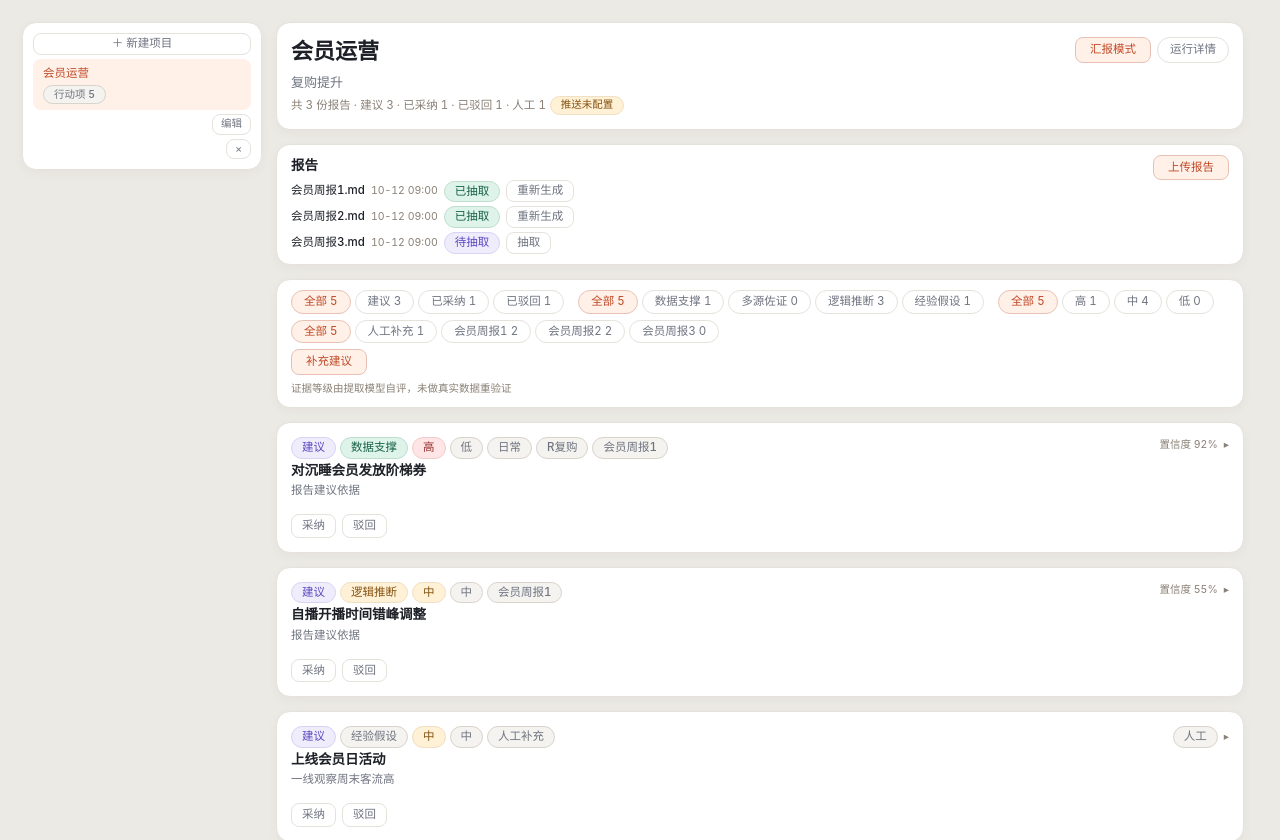
Test: 人工项形态：「人工」徽标替代置信度、报告 chip「人工补充」、固定说明行
Expected: the text "人工" is shown, left=1173, top=726, right=1218, bottom=748
Expected: the text "人工补充" is shown, left=487, top=726, right=555, bottom=748
Click the button "建议 经验假设 中 中 人工补充 上线会员日活动 一线观察周末客流高 人工 ▸": {"x": 314, "y": 737} left=277, top=712, right=1243, bottom=803
(page scrolled)
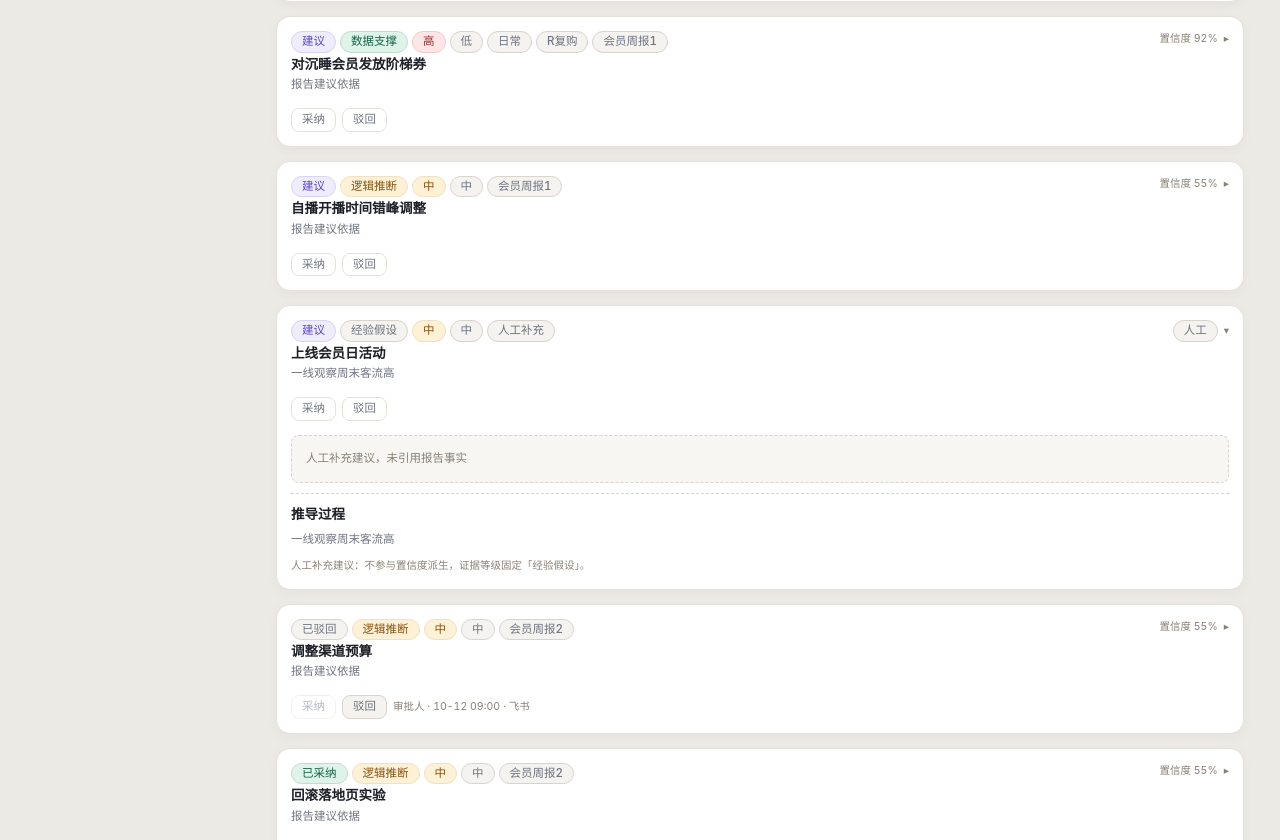
Expected: the text "证据等级由提取模型自评，未做真实数据重验证" is not shown
Expected: the text "人工补充建议，未引用报告事实" is shown, left=291, top=435, right=1229, bottom=483
Expected: the text "人工补充建议：不参与置信度派生，证据等级固定「经验假设」。" is shown, left=291, top=559, right=590, bottom=572
